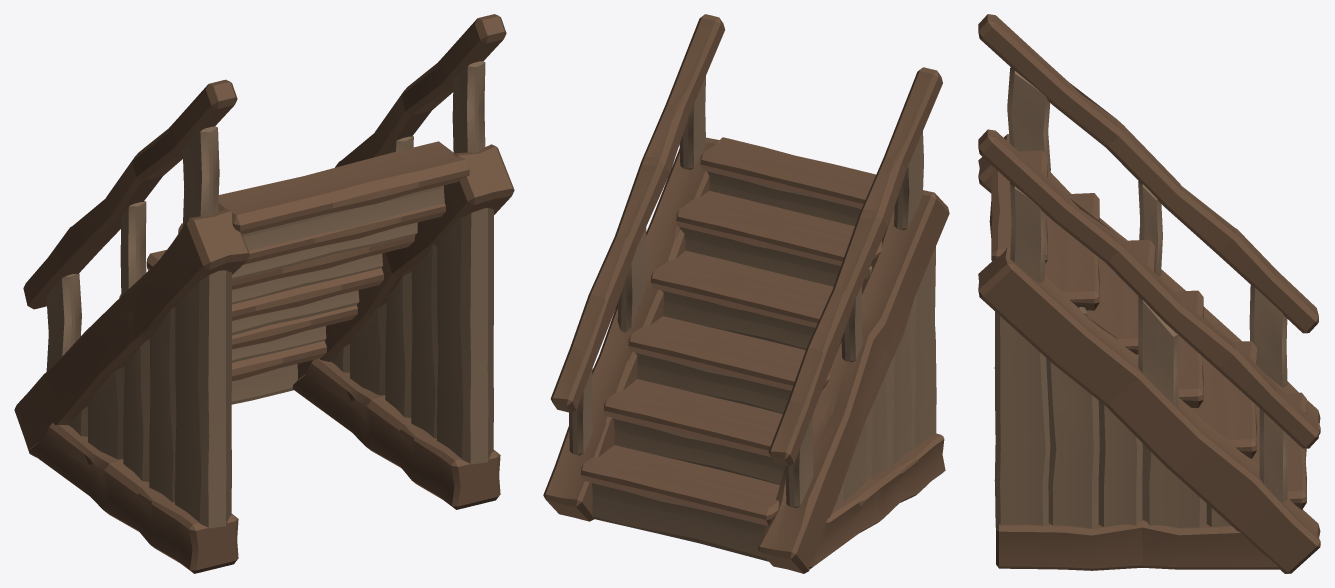
Rendered from fancystairs.fbx.
3 renders of one model, left to right at view 1: azimuth 30°, elevation 25°; view 2: azimuth 150°, elevation 25°; view 3: azimuth 270°, elevation 25°, orthographic. The views are drawn at different scales.
Visible parts, largest first — view 1: Wall_03_Center.002; view 2: Wall_03_Center.002; view 3: Wall_03_Center.002.
Part boxes in pixels (bbox=[...]): Wall_03_Center.002: bbox=[14, 14, 514, 573]; Wall_03_Center.002: bbox=[543, 14, 949, 573]; Wall_03_Center.002: bbox=[978, 14, 1320, 573].
Bounding box in the file's own units: 1.02 × 1.5 × 1.07.
